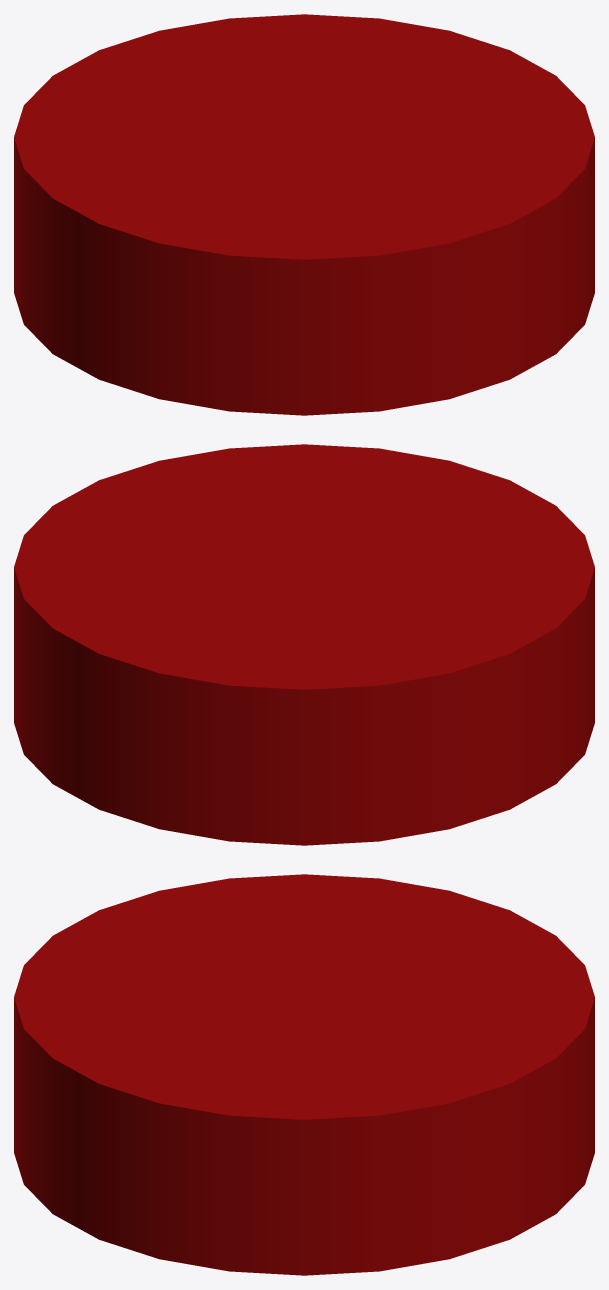
File: hocket puck.dae
3 renders of one model, top to bottom at view 1: azimuth 30°, elevation 25°; view 2: azimuth 150°, elevation 25°; view 3: azimuth 270°, elevation 25°, orthographic.
Visible parts, largest first — view 1: SketchUp; view 2: SketchUp; view 3: SketchUp.
Part boxes in pixels (bbox=[...]): SketchUp: bbox=[14, 14, 594, 415]; SketchUp: bbox=[14, 444, 594, 845]; SketchUp: bbox=[14, 874, 594, 1275].
Bounding box in the file's own units: 2.66 × 2.66 × 0.7874.
